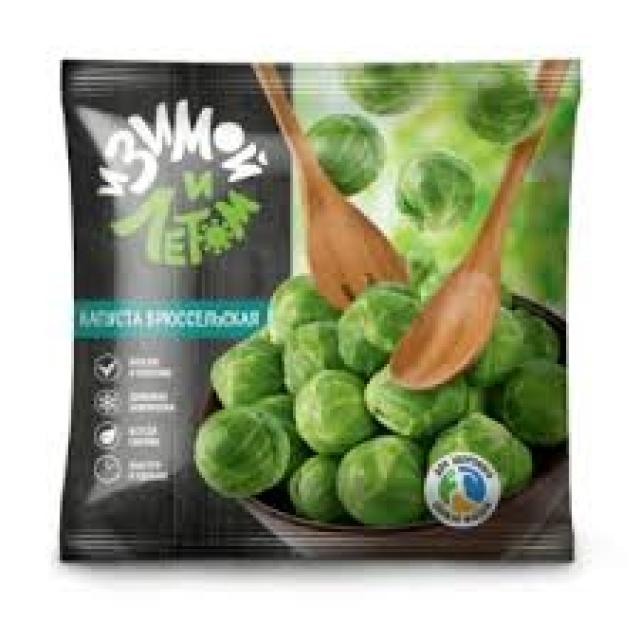choux de bruxelles: (196, 275, 549, 547), (292, 76, 394, 193), (386, 133, 505, 231), (465, 63, 543, 144)
